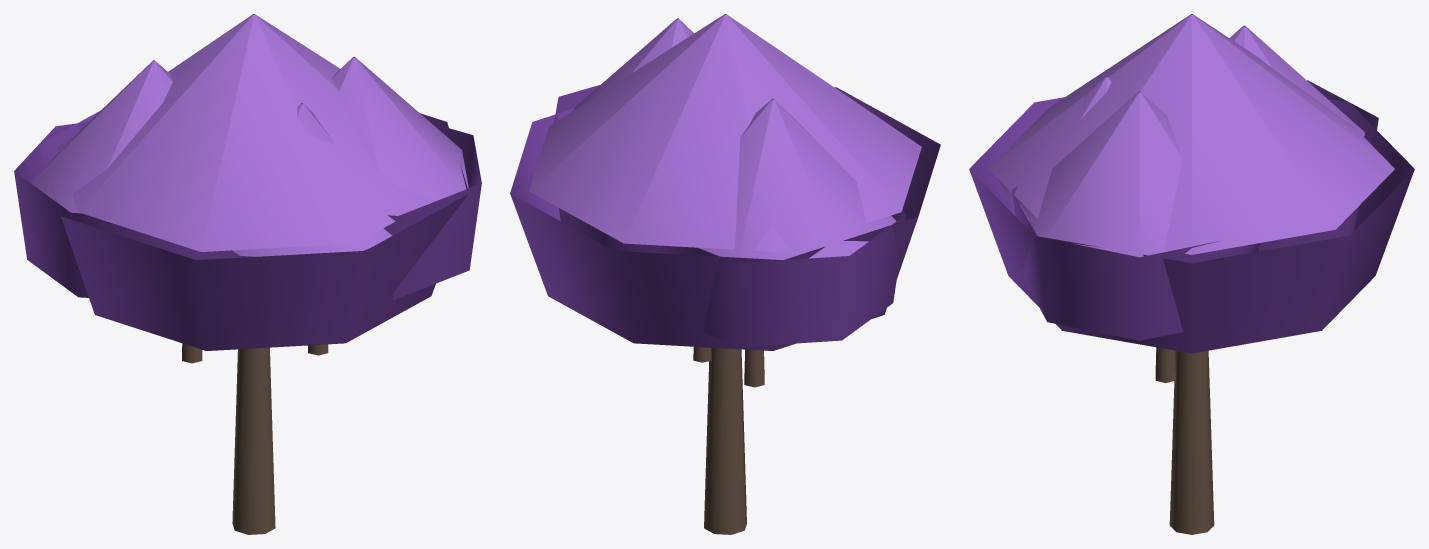
File: flora_09_jacaranda_purple_blossom_tree.glb
The picture shows the model from 3 angles, left to right: view 1: azimuth 30°, elevation 25°; view 2: azimuth 150°, elevation 25°; view 3: azimuth 270°, elevation 25°; orthographic projection.
Parts seen in each view (by area): view 1: Jacaranda_Lavender_Blossom_Crown, Jacaranda_Violet_Canopy_Lower, Jacaranda_Trunk_And_Limbs; view 2: Jacaranda_Lavender_Blossom_Crown, Jacaranda_Violet_Canopy_Lower, Jacaranda_Trunk_And_Limbs; view 3: Jacaranda_Lavender_Blossom_Crown, Jacaranda_Violet_Canopy_Lower, Jacaranda_Trunk_And_Limbs.
Boxes of the visible parts, bbox=[...] form: Jacaranda_Lavender_Blossom_Crown: bbox=[30, 14, 468, 256]; Jacaranda_Violet_Canopy_Lower: bbox=[14, 110, 481, 350]; Jacaranda_Trunk_And_Limbs: bbox=[182, 343, 328, 534]; Jacaranda_Lavender_Blossom_Crown: bbox=[529, 14, 921, 259]; Jacaranda_Violet_Canopy_Lower: bbox=[510, 85, 940, 350]; Jacaranda_Trunk_And_Limbs: bbox=[693, 346, 764, 534]; Jacaranda_Lavender_Blossom_Crown: bbox=[989, 14, 1394, 257]; Jacaranda_Violet_Canopy_Lower: bbox=[969, 80, 1414, 353]; Jacaranda_Trunk_And_Limbs: bbox=[1155, 345, 1240, 534].
Size of the model in its own units: 6.8 by 8.6 by 6.8.
